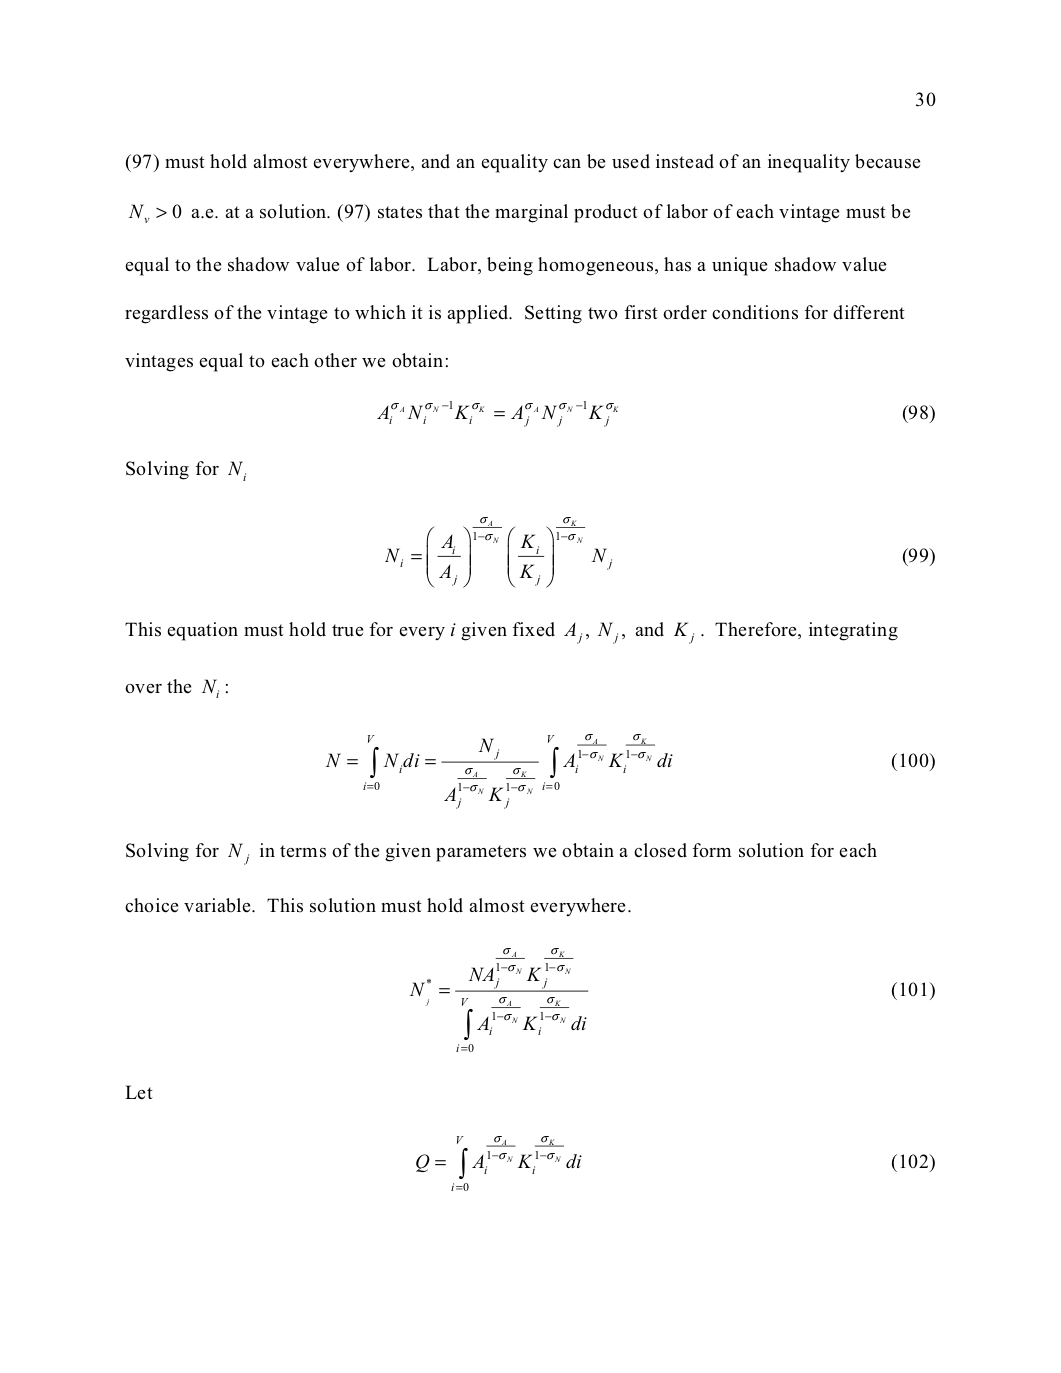formula: (409, 948, 934, 1051), (325, 732, 934, 809), (385, 515, 934, 588), (416, 1136, 934, 1190), (377, 400, 934, 427)
